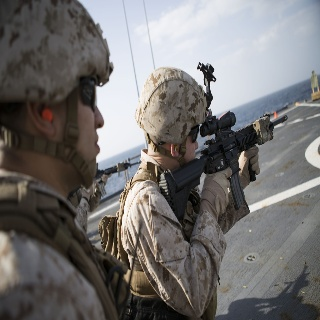rifle: (159, 110, 291, 212)
